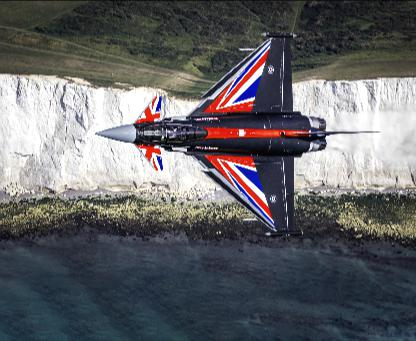E2: (94, 31, 382, 237)
